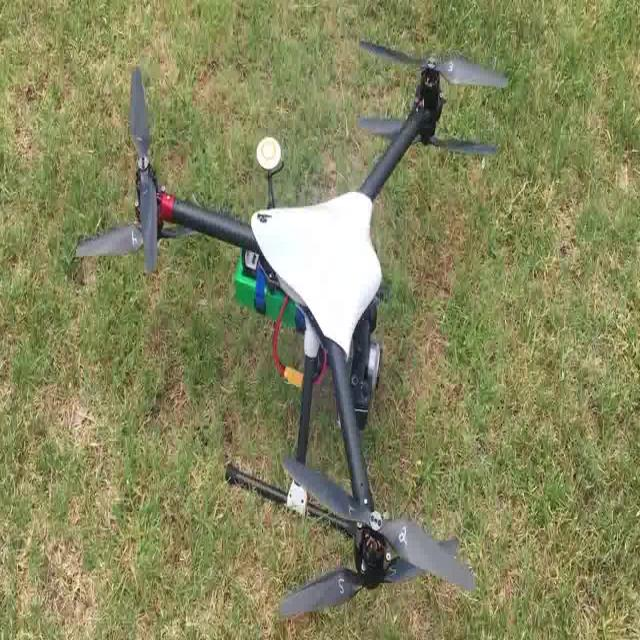drones: (70, 24, 512, 628)
